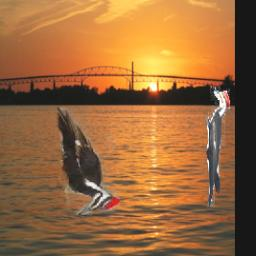Woodpecker: (57, 107, 120, 215), (205, 87, 231, 209)
